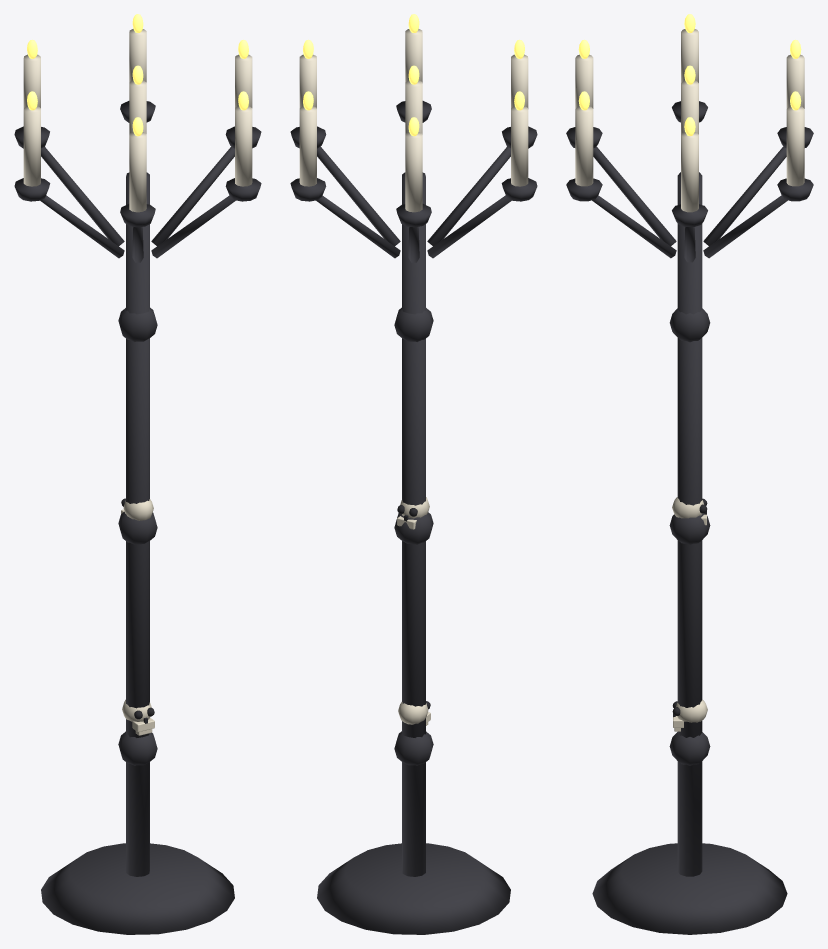
File: grand_candelabra_twin_skull.glb
The picture shows the model from 3 angles, left to right: view 1: azimuth 30°, elevation 25°; view 2: azimuth 150°, elevation 25°; view 3: azimuth 270°, elevation 25°; orthographic projection.
Parts seen in each view (by area): view 1: GD_grand_candelabra_twin_skull__m0, GD_grand_candelabra_twin_skull__m1, GD_grand_candelabra_twin_skull__m2, GD_grand_candelabra_twin_skull__m3; view 2: GD_grand_candelabra_twin_skull__m0, GD_grand_candelabra_twin_skull__m1, GD_grand_candelabra_twin_skull__m2, GD_grand_candelabra_twin_skull__m3; view 3: GD_grand_candelabra_twin_skull__m0, GD_grand_candelabra_twin_skull__m1, GD_grand_candelabra_twin_skull__m2, GD_grand_candelabra_twin_skull__m3.
Boxes of the visible parts, x1,y1,x2,y2 form: GD_grand_candelabra_twin_skull__m0: (14, 101, 261, 934); GD_grand_candelabra_twin_skull__m1: (23, 29, 252, 212); GD_grand_candelabra_twin_skull__m2: (27, 14, 248, 136); GD_grand_candelabra_twin_skull__m3: (121, 499, 154, 735); GD_grand_candelabra_twin_skull__m0: (290, 101, 537, 934); GD_grand_candelabra_twin_skull__m1: (299, 29, 528, 212); GD_grand_candelabra_twin_skull__m2: (303, 14, 524, 136); GD_grand_candelabra_twin_skull__m3: (397, 497, 430, 725); GD_grand_candelabra_twin_skull__m0: (566, 101, 813, 934); GD_grand_candelabra_twin_skull__m1: (575, 29, 804, 212); GD_grand_candelabra_twin_skull__m2: (578, 14, 801, 135); GD_grand_candelabra_twin_skull__m3: (672, 497, 707, 731).
Size of the model in its own units: 0.6856 by 2.25 by 0.6096.
